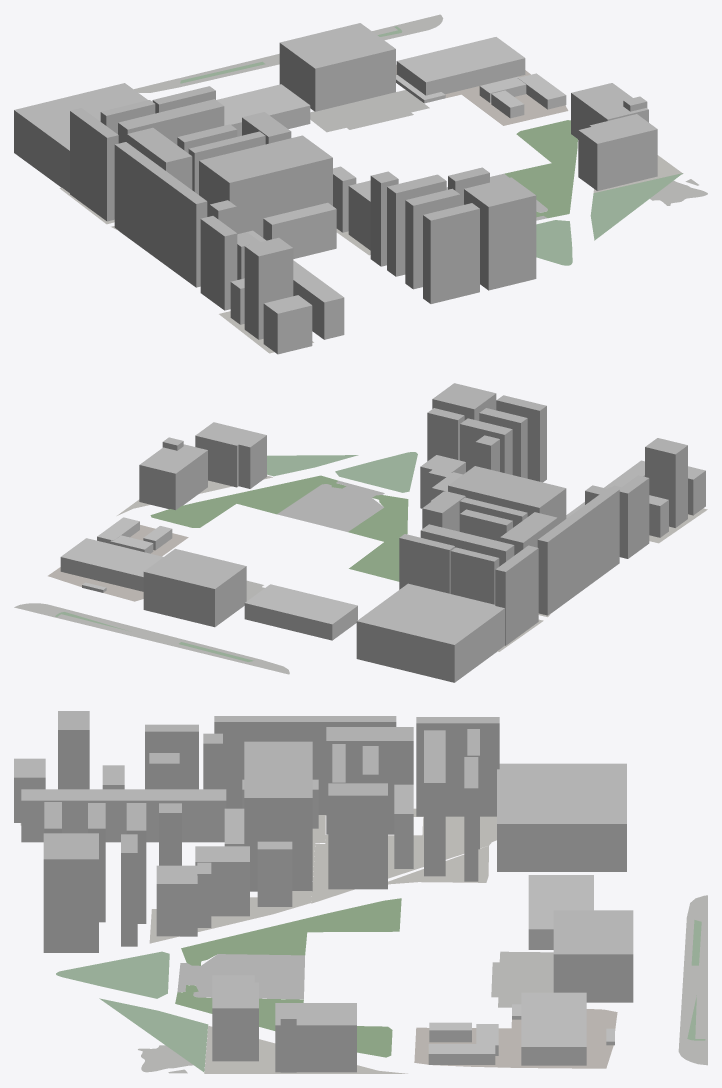
File: 119_101_mid.glb
3 renders of one model, top to bottom at view 1: azimuth 30°, elevation 25°; view 2: azimuth 150°, elevation 25°; view 3: azimuth 270°, elevation 25°, orthographic. The views are drawn at different scales.
Size of the model in its own units: 466 by 77.37 by 505.
